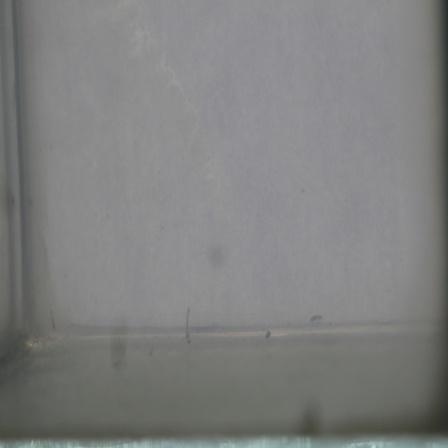Jentik-Nyamuk: (183, 299, 195, 349)
